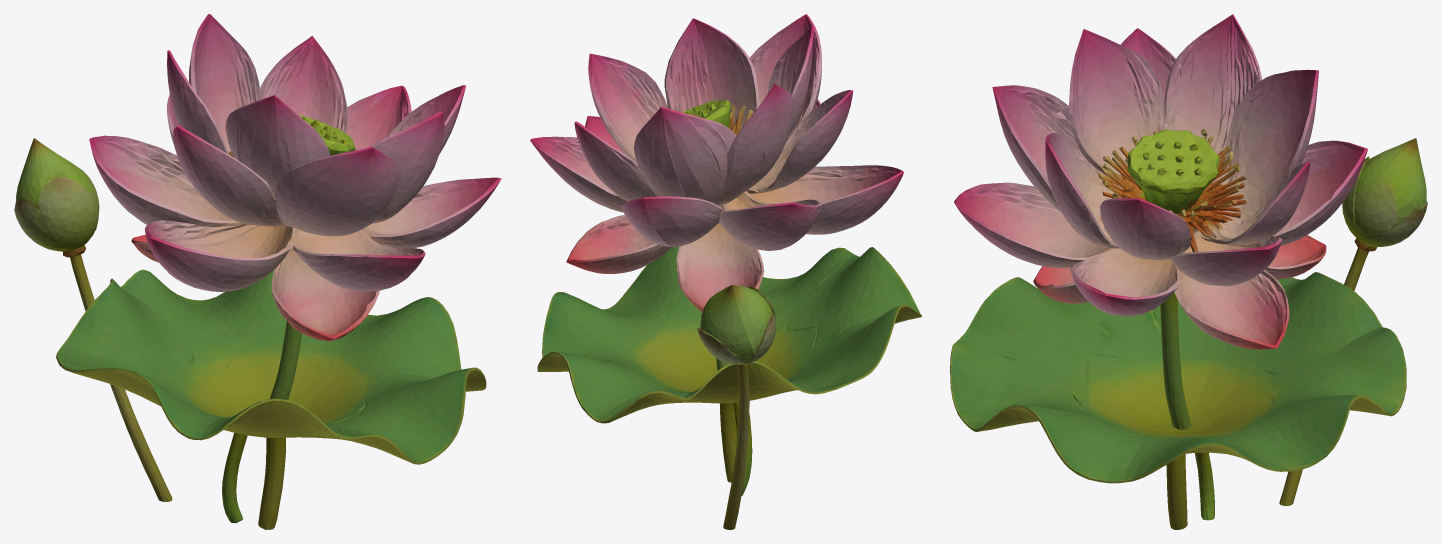
The model's file is tripo_convert_8630438d-130b-48c3-9069-2cbd4fcb02c7.fbx.
3 views of the same model, side by side, from view 1: azimuth 30°, elevation 25°; view 2: azimuth 150°, elevation 25°; view 3: azimuth 270°, elevation 25° (orthographic). The views are drawn at different scales.
Visible parts, largest first — view 1: tripo_node_8630438d; view 2: tripo_node_8630438d; view 3: tripo_node_8630438d.
Boxes of the visible parts, x1,y1,x2,y2 form: tripo_node_8630438d: (14, 14, 501, 529); tripo_node_8630438d: (530, 14, 921, 529); tripo_node_8630438d: (950, 14, 1427, 529).
Size of the model in its own units: 0.8219 by 0.9971 by 0.902.
1 material, 1 textured.
